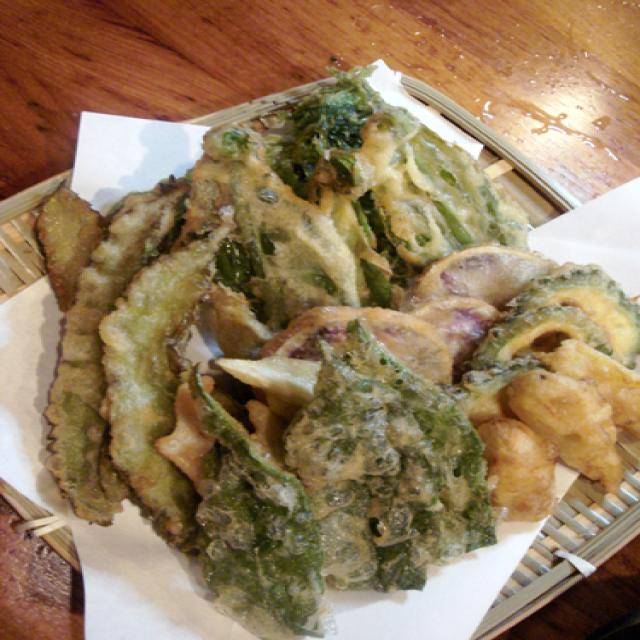蔬菜料理: (0, 61, 640, 621)
